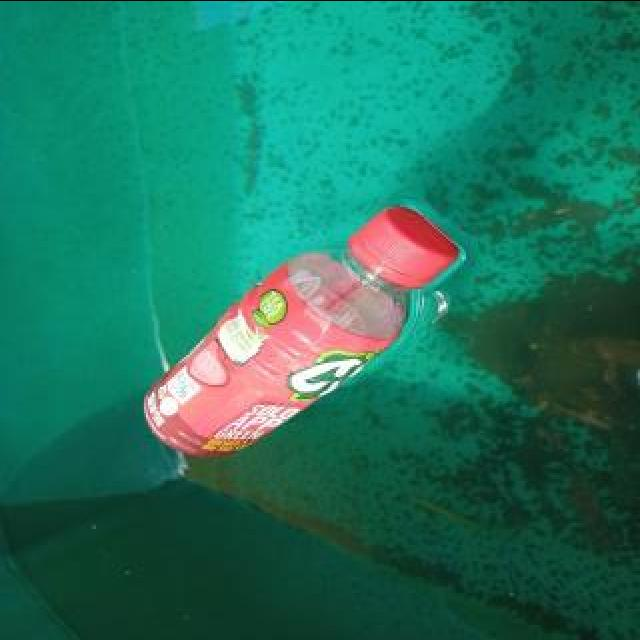Bottle: (134, 196, 470, 466)
